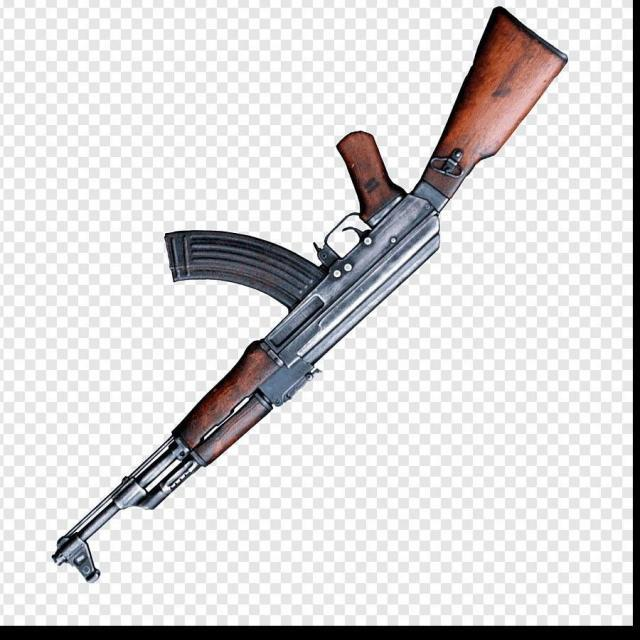weapon: (49, 3, 570, 586)
